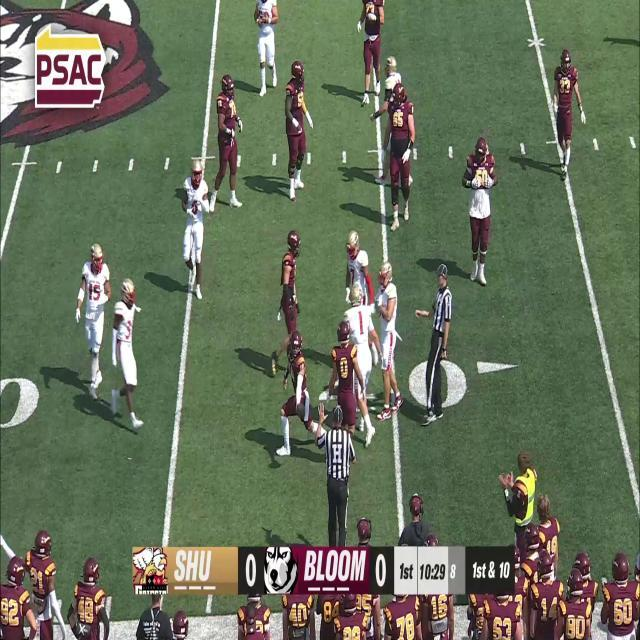football: (296, 402, 304, 417)
